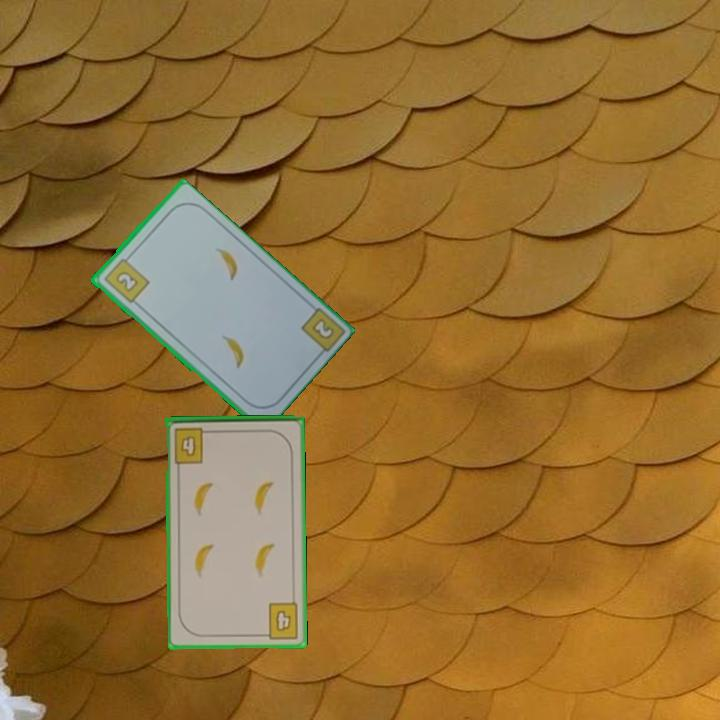2b: (100, 252, 152, 306), (308, 315, 337, 342)
4b: (258, 599, 302, 641), (171, 424, 214, 466)
